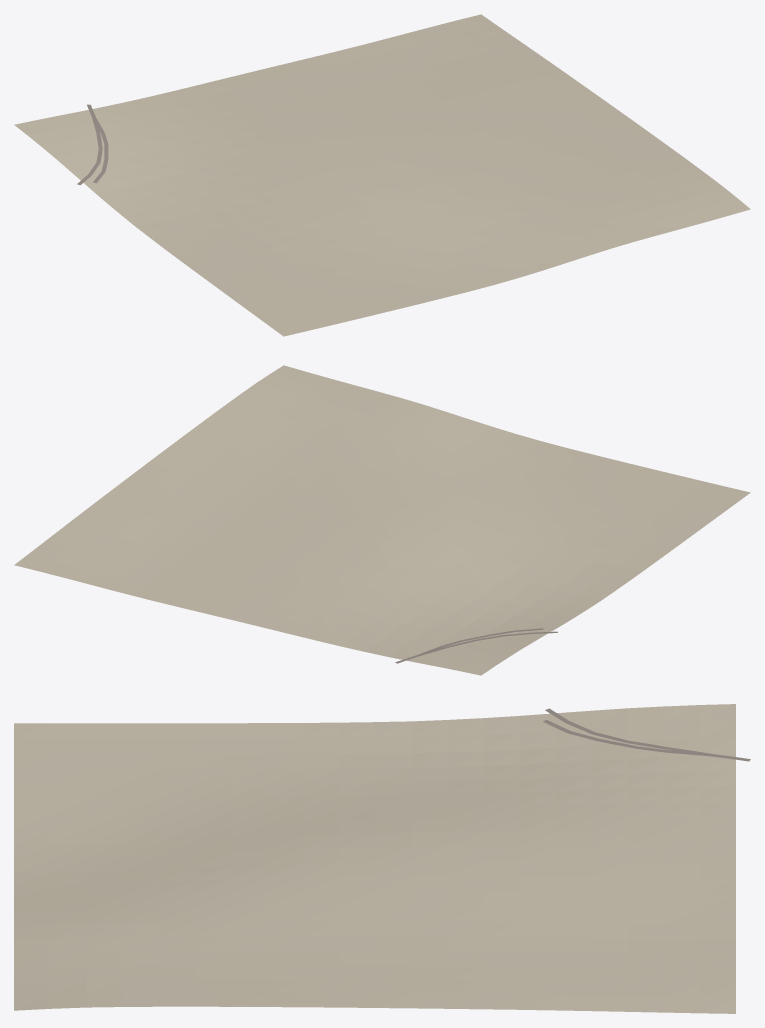
File: bolak_-24_6.glb
3 views of the same model, one above another, from view 1: azimuth 30°, elevation 25°; view 2: azimuth 150°, elevation 25°; view 3: azimuth 270°, elevation 25° (orthographic). The views are drawn at different scales.
Visible parts, largest first — view 1: Yer_Tuproq-col, Temir_Yol; view 2: Yer_Tuproq-col, Temir_Yol; view 3: Yer_Tuproq-col, Temir_Yol.
Boxes of the visible parts, bbox=[...] form: Yer_Tuproq-col: bbox=[14, 14, 750, 336]; Temir_Yol: bbox=[77, 104, 108, 185]; Yer_Tuproq-col: bbox=[14, 365, 750, 675]; Temir_Yol: bbox=[395, 628, 557, 663]; Yer_Tuproq-col: bbox=[14, 704, 735, 1013]; Temir_Yol: bbox=[543, 708, 750, 761].
Size of the model in its own units: 406 by 13.74 by 408.
